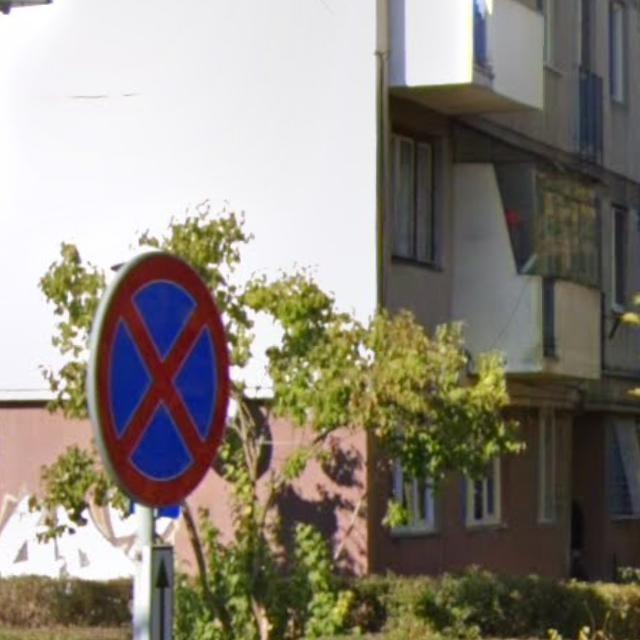forb_waiting: (93, 253, 228, 507)
